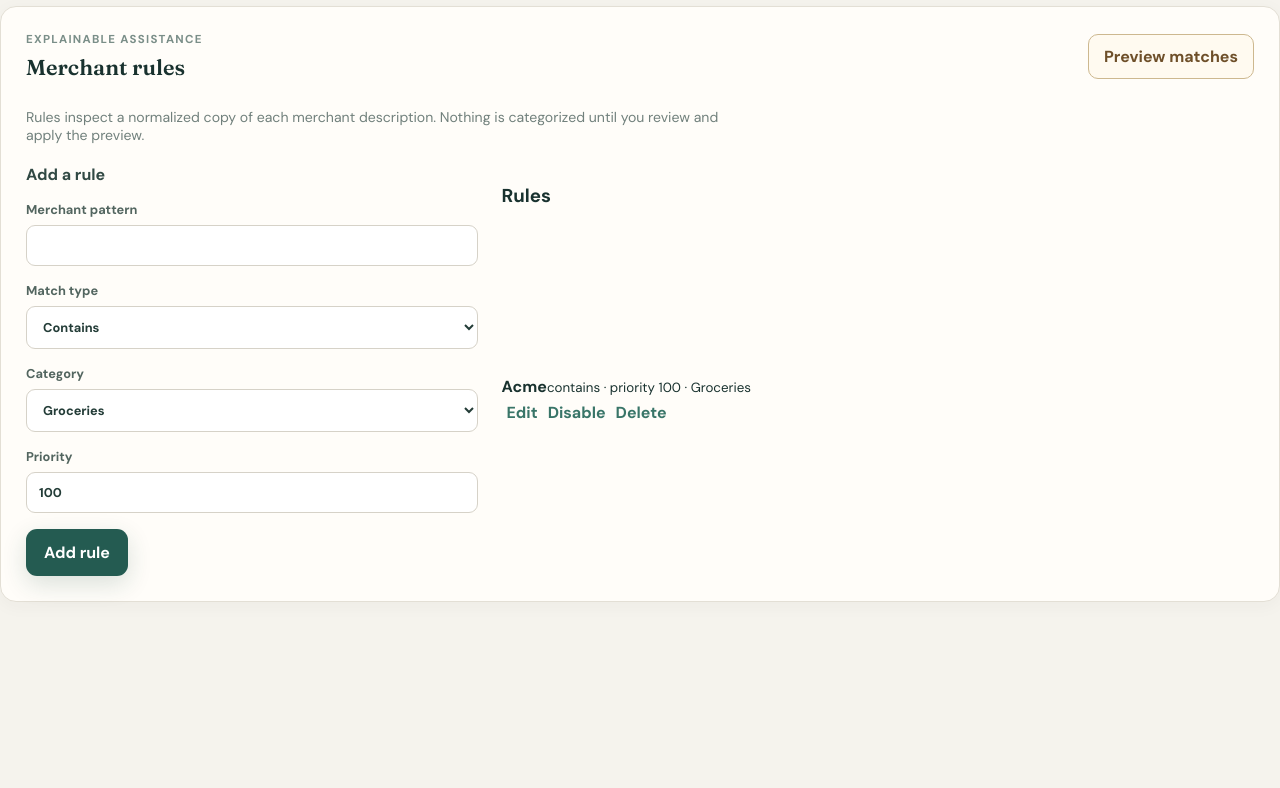
Test: MerchantRuleManager › filters review rows without losing selections or corrections
Expected: the text "Acme" is shown, 502,376 -> 547,397
Click the button "Preview matches": (1171, 56) 1088,34 -> 1254,79
(page scrolled)
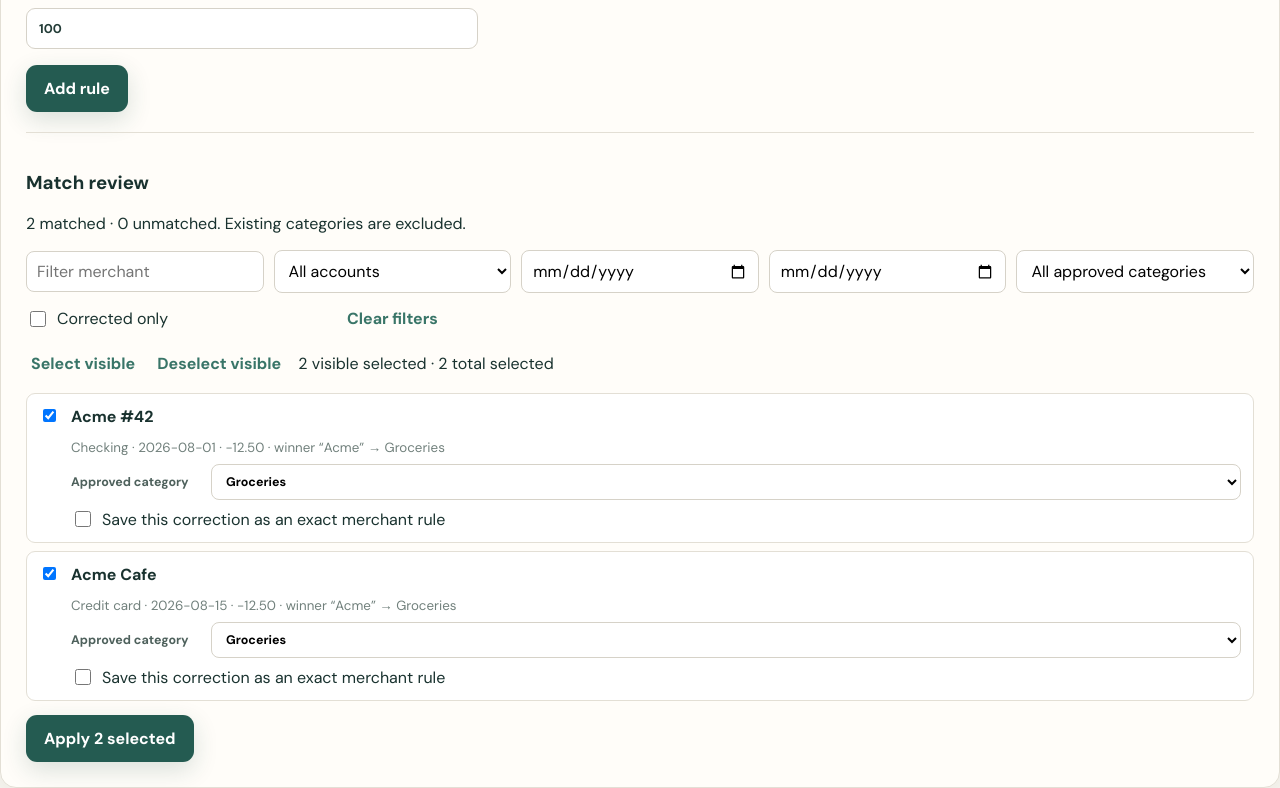
Now the text "Acme Cafe" is shown, box 71,564 -> 157,585
Select "Coffee" in the dropdown named "Category for Acme #42": (726, 482) 211,464 -> 1241,500
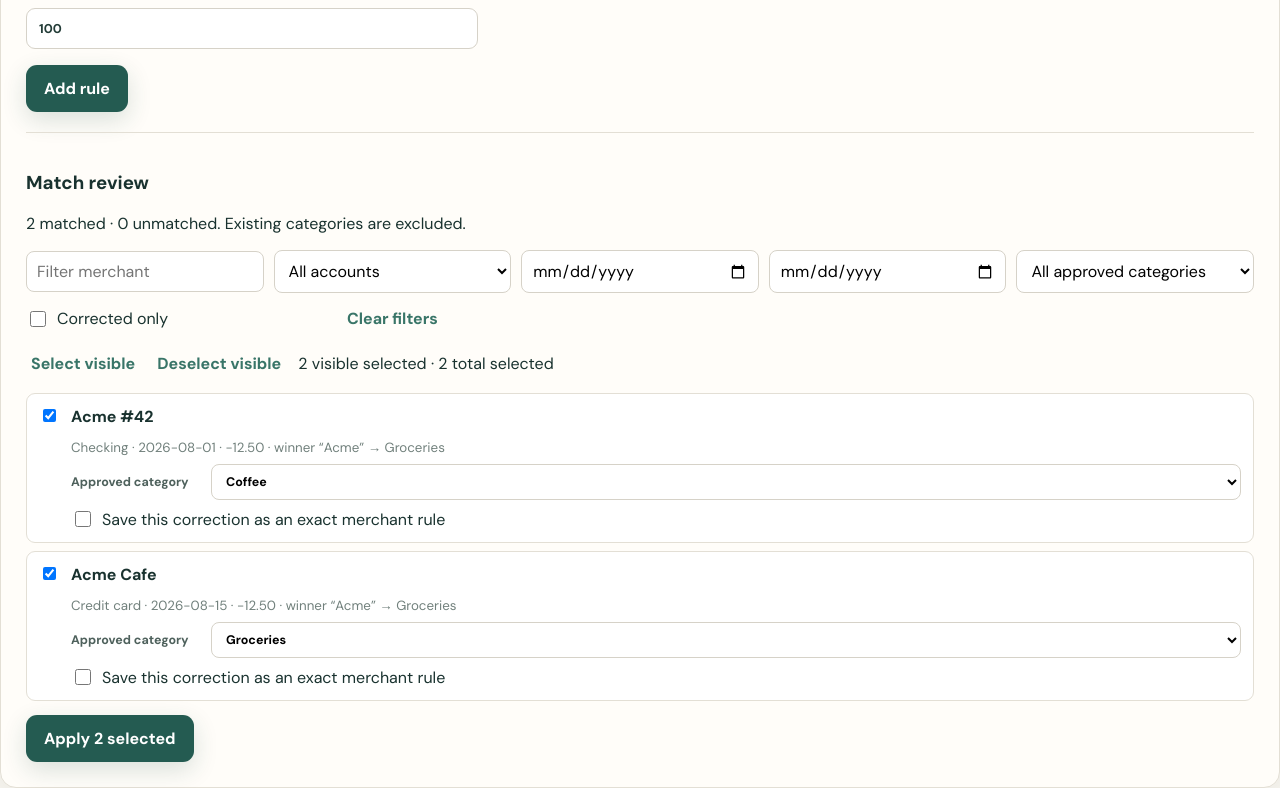
Click the checkbox labelled "Corrected only": (38, 319) 30,311 -> 46,327
(page scrolled)
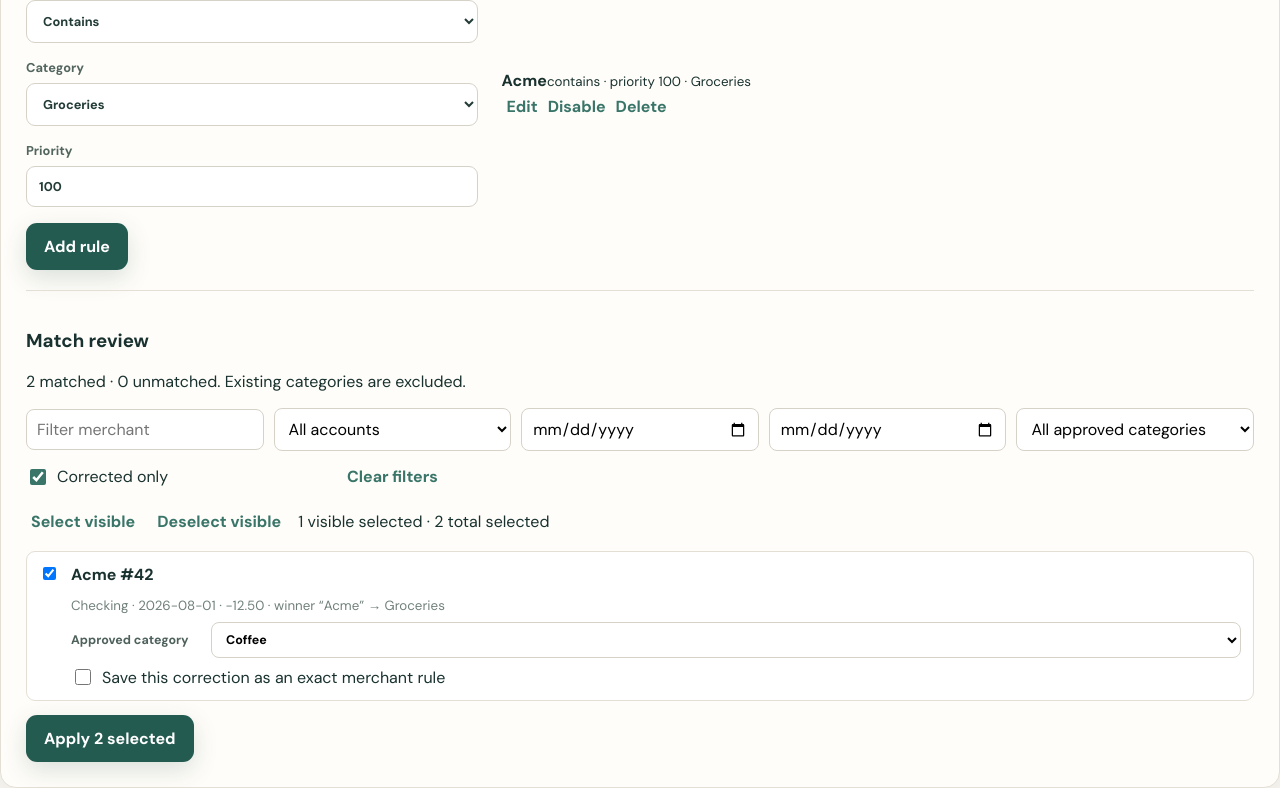
Now the text "Acme #42" is shown, box 71,564 -> 154,585
Now the text "Acme Cafe" is gone
Now the text "1 visible selected · 2 total selected" is shown, box 298,511 -> 550,532
Click the button "Deselect visible": (219, 522) 152,506 -> 286,537
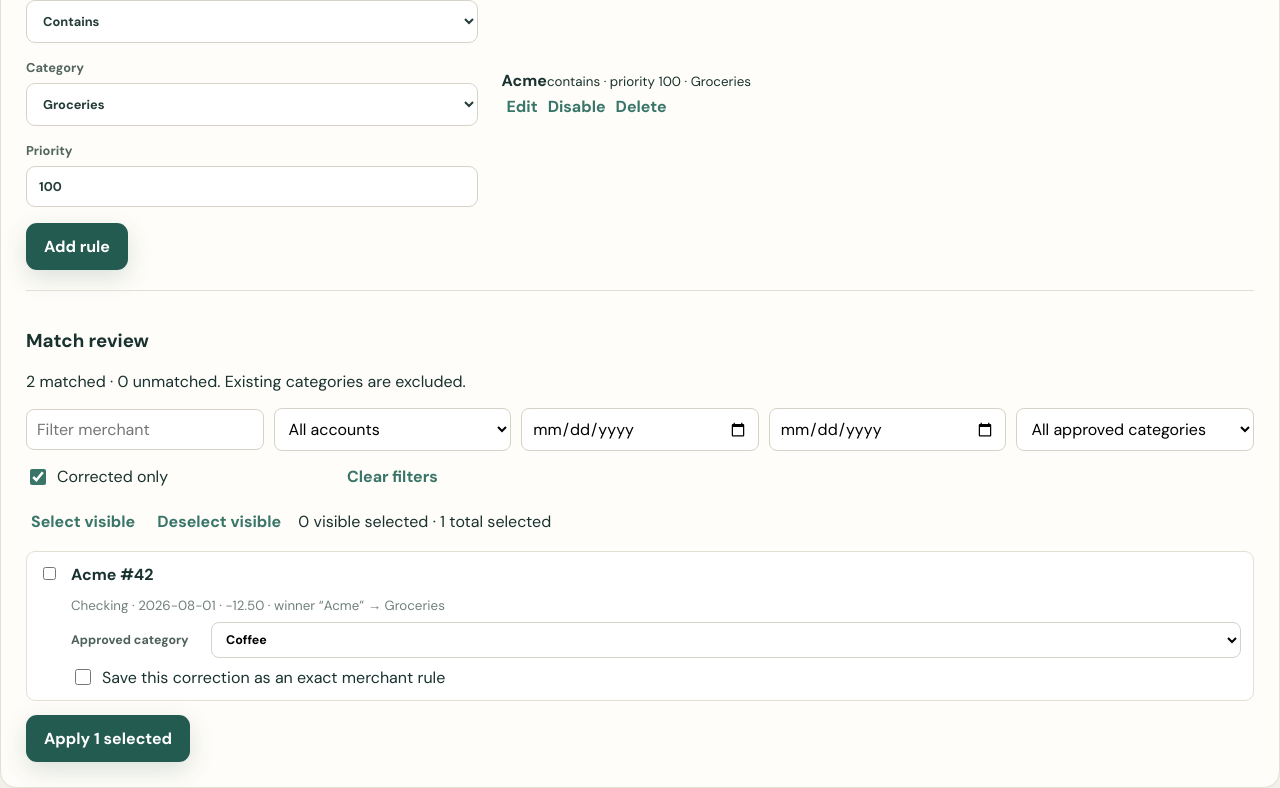
Now the text "0 visible selected · 1 total selected" is shown, box 298,511 -> 551,532
Click the button "Clear filters": (392, 477) 274,461 -> 511,492
(page scrolled)
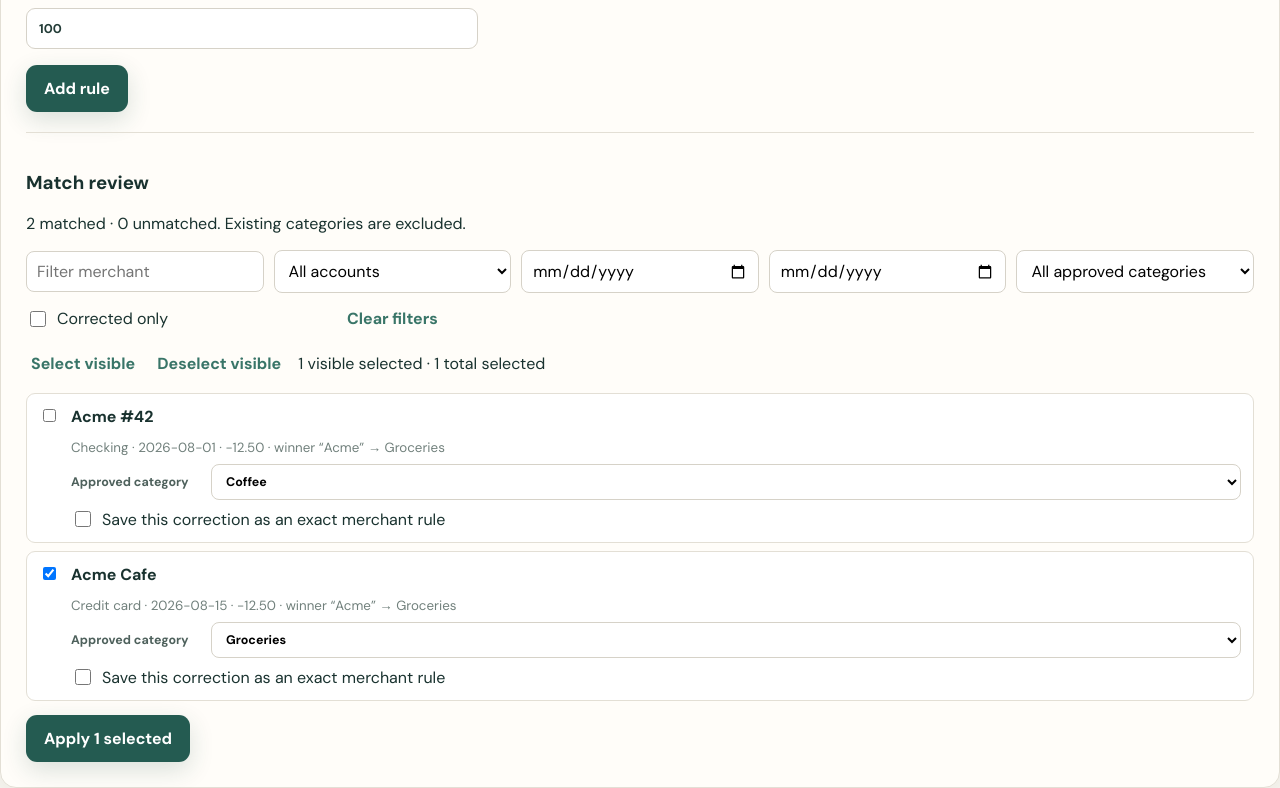
Now the text "Acme Cafe" is shown, box 71,564 -> 157,585
